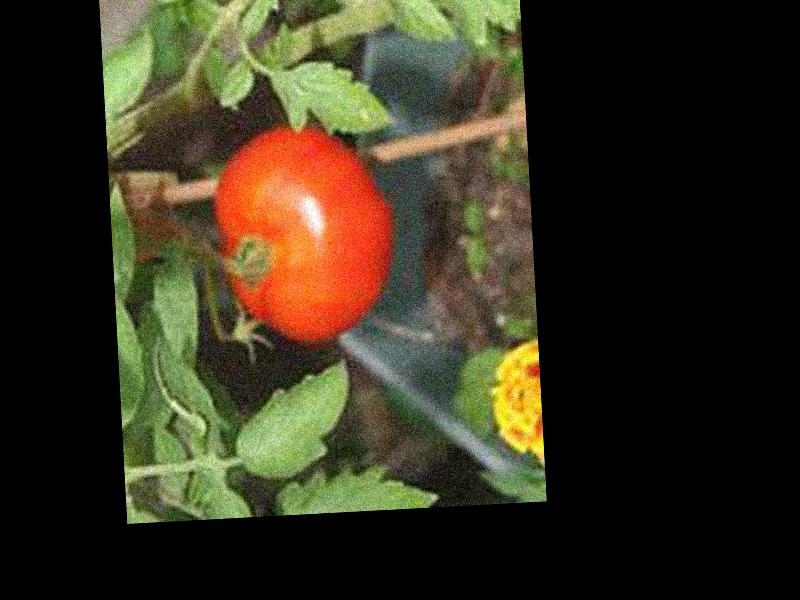Tomato: (209, 117, 396, 349)
